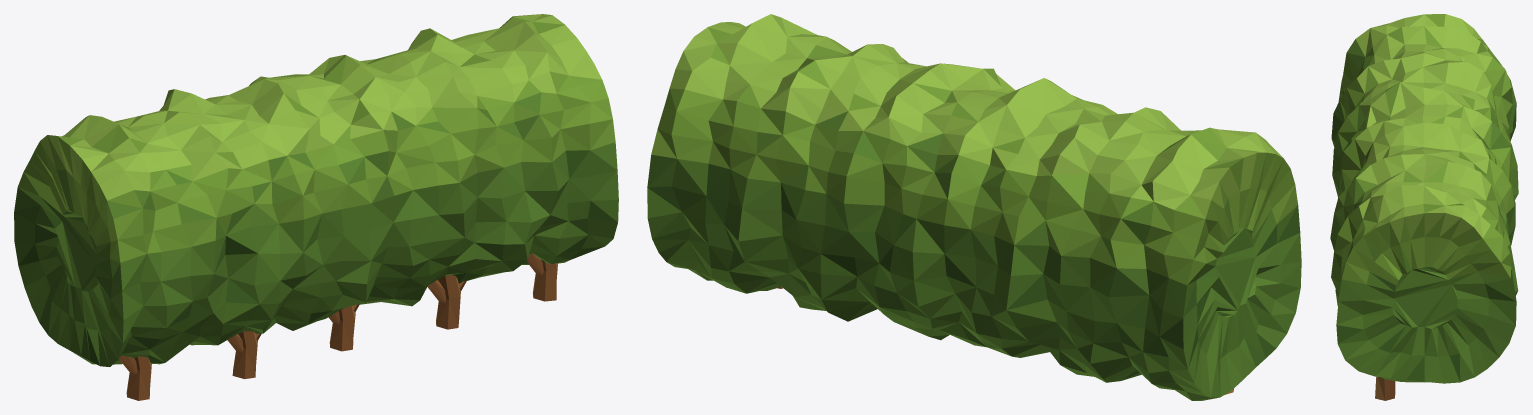
The model's file is FMS_Hedge_Straight.fbx.
The picture shows the model from 3 angles, left to right: view 1: azimuth 30°, elevation 25°; view 2: azimuth 150°, elevation 25°; view 3: azimuth 270°, elevation 25°; orthographic projection. The views are drawn at different scales.
Parts seen in each view (by area): view 1: FMS_Hedge_Straight; view 2: FMS_Hedge_Straight; view 3: FMS_Hedge_Straight.
Part boxes in pixels (box(x1,y1,x2,y2)): FMS_Hedge_Straight: box(14, 14, 618, 400); FMS_Hedge_Straight: box(647, 14, 1301, 400); FMS_Hedge_Straight: box(1330, 14, 1518, 400).
Size of the model in its own units: 2 by 1 by 0.8.
